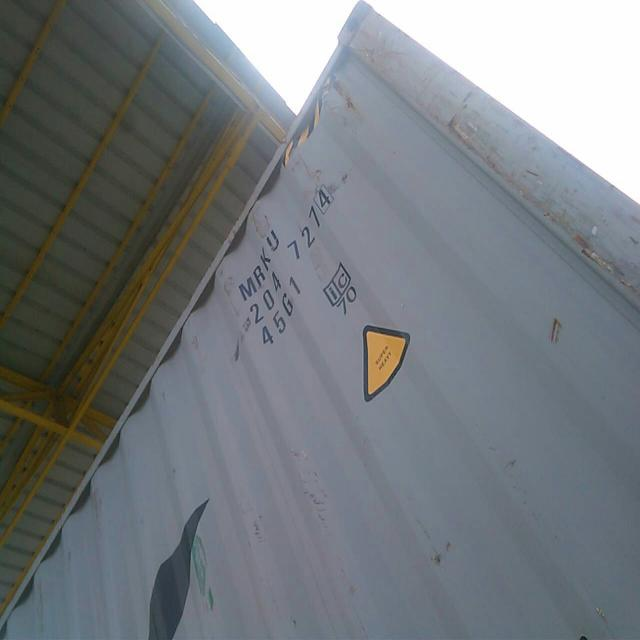rust: (570, 225, 640, 303), (444, 115, 513, 188), (335, 3, 393, 70), (330, 75, 360, 120), (546, 311, 569, 354)
